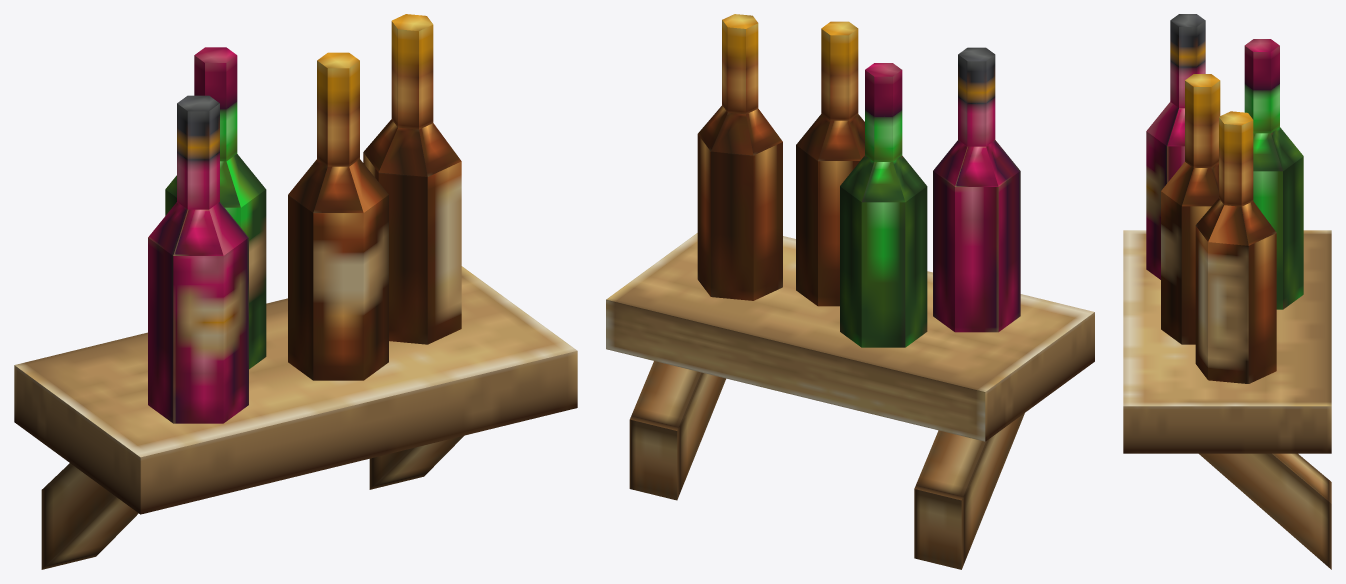
Rendered from Inside_Poly_Shelf_Wall_05.obj.
3 renders of one model, left to right at view 1: azimuth 30°, elevation 25°; view 2: azimuth 150°, elevation 25°; view 3: azimuth 270°, elevation 25°, orthographic. The views are drawn at different scales.
Visible parts, largest first — view 1: Cylinder, Cube.001, Cylinder.005, Cube.003; view 2: Cylinder, Cube.001, Cube.003, Cylinder.005; view 3: Cylinder, Cube.001, Cylinder.005, Cube.003.
Boxes of the visible parts, <box> form: Cylinder: <box>148,119,461,423</box>; Cube.001: <box>14,266,577,514</box>; Cylinder.005: <box>177,14,433,209</box>; Cube.003: <box>41,436,463,569</box>; Cylinder: <box>697,105,1020,347</box>; Cube.001: <box>606,233,1094,441</box>; Cube.003: <box>629,361,1024,569</box>; Cylinder.005: <box>722,14,995,161</box>; Cylinder: <box>1146,102,1303,383</box>; Cube.001: <box>1123,230,1331,453</box>; Cylinder.005: <box>1170,14,1279,206</box>; Cube.003: <box>1199,453,1331,569</box>.
Bounding box in the file's own units: 0.8 × 0.8978 × 0.4.
Materials: 1 (1 with a texture image).
